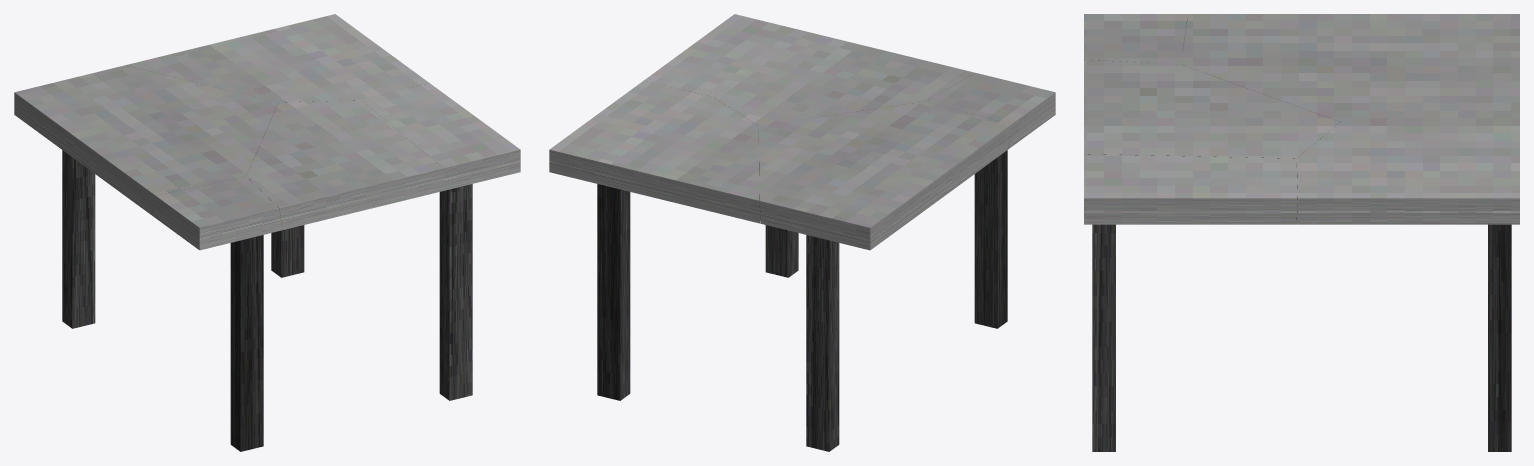
Rendered from Mesita-Rota.gltf.
3 renders of one model, left to right at view 1: azimuth 30°, elevation 25°; view 2: azimuth 150°, elevation 25°; view 3: azimuth 270°, elevation 25°, orthographic. The views are drawn at different scales.
Parts seen in each view (by area): view 1: Cube.001_cell.001, Cube, Cube.001_cell.003, Cube.001_cell, Cube.001_cell.002, Cube.001_cell.004; view 2: Cube.001_cell.001, Cube, Cube.001_cell, Cube.001_cell.003, Cube.001_cell.002, Cube.001_cell.004; view 3: Cube.001_cell.001, Cube.001_cell, Cube.001_cell.003, Cube.001_cell.002, Cube, Cube.001_cell.004.
Boxes of the visible parts, x1,y1,x2,y2 form: Cube.001_cell.001: (14, 65, 278, 215); Cube: (62, 150, 472, 451); Cube.001_cell.003: (246, 100, 443, 229); Cube.001_cell: (126, 14, 429, 102); Cube.001_cell.002: (361, 83, 520, 190); Cube.001_cell.004: (152, 176, 282, 250); Cube.001_cell.001: (758, 101, 1011, 250); Cube: (597, 150, 1007, 451); Cube.001_cell: (549, 80, 760, 223); Cube.001_cell.003: (714, 33, 975, 125); Cube.001_cell.002: (644, 14, 811, 96); Cube.001_cell.004: (927, 73, 1055, 149); Cube.001_cell.001: (1181, 14, 1519, 121); Cube.001_cell: (1296, 77, 1519, 224); Cube.001_cell.003: (1084, 60, 1339, 158); Cube.001_cell.002: (1084, 154, 1297, 224); Cube: (1092, 224, 1511, 451); Cube.001_cell.004: (1084, 14, 1187, 64).
Size of the model in its own units: 5.62 by 3.97 by 5.62.
Materials: 2 (2 with a texture image).
